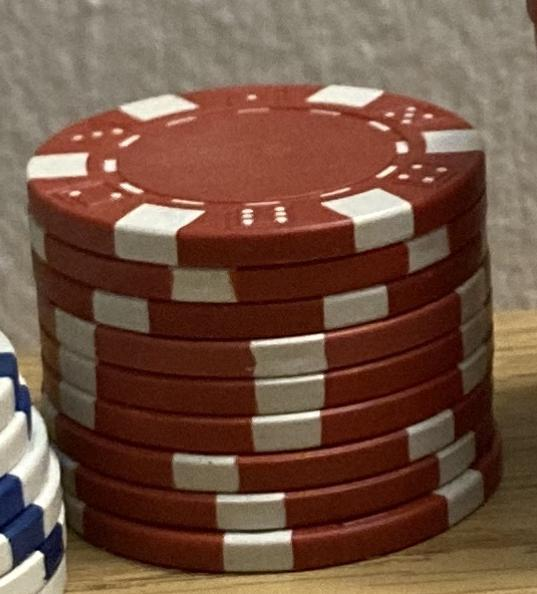Chip: (1, 1, 537, 594)
